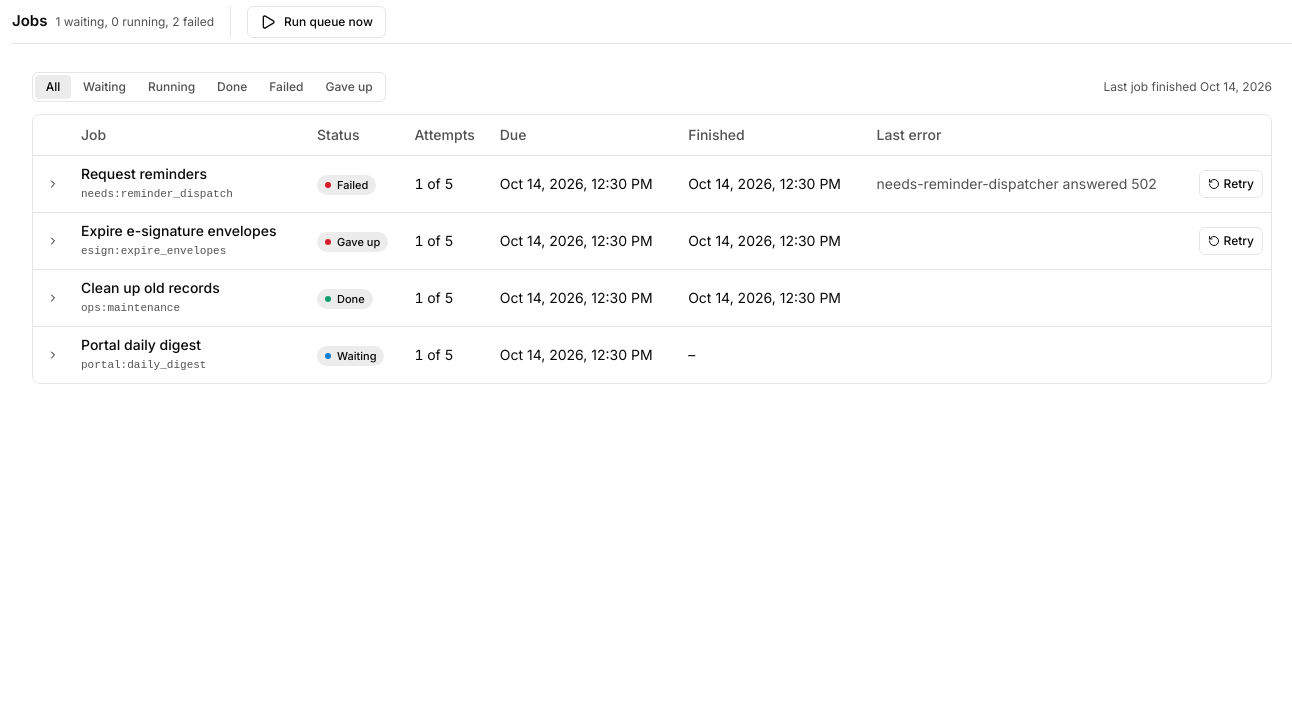
Test: Jobs › opens a job to show its payload and result
Click the button named "Show details for Clean up old records": [53, 298] box [41,286,65,310]
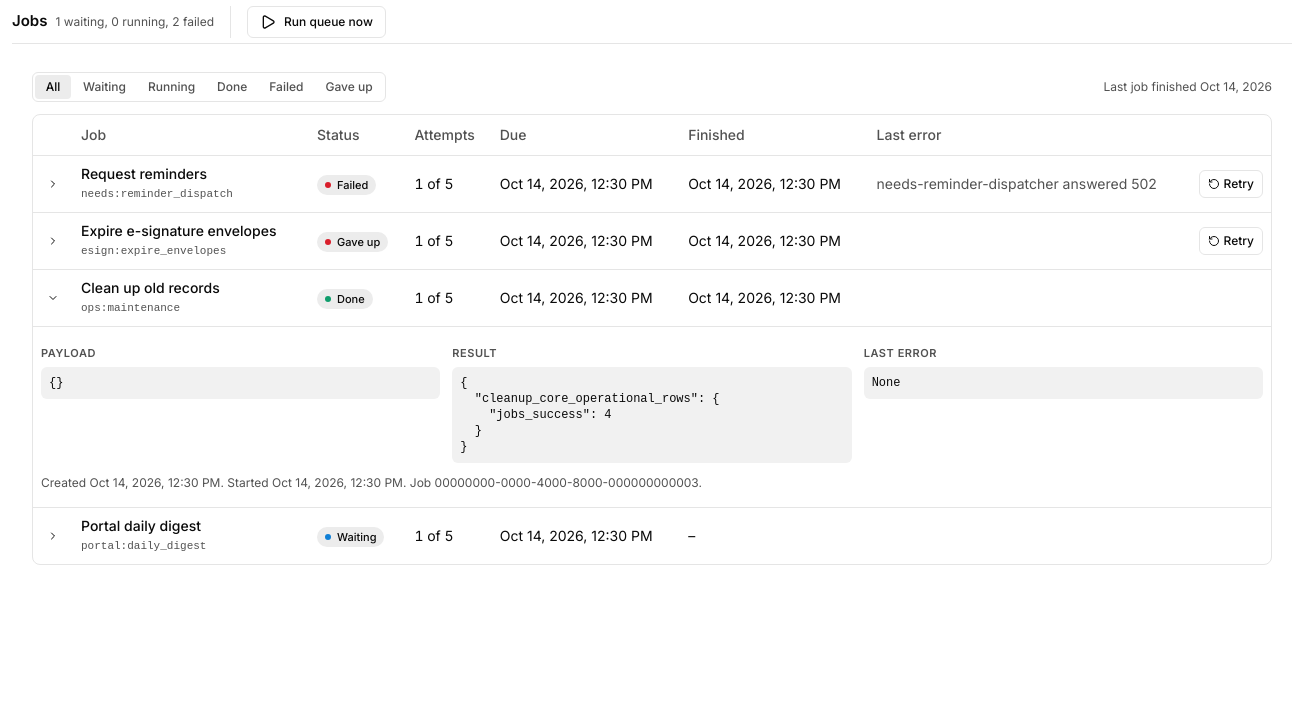
Expected: the text "{ \"cleanup_core_operational_rows\": { \"jobs_success\": 4 } }" is shown, [452,366,852,462]
